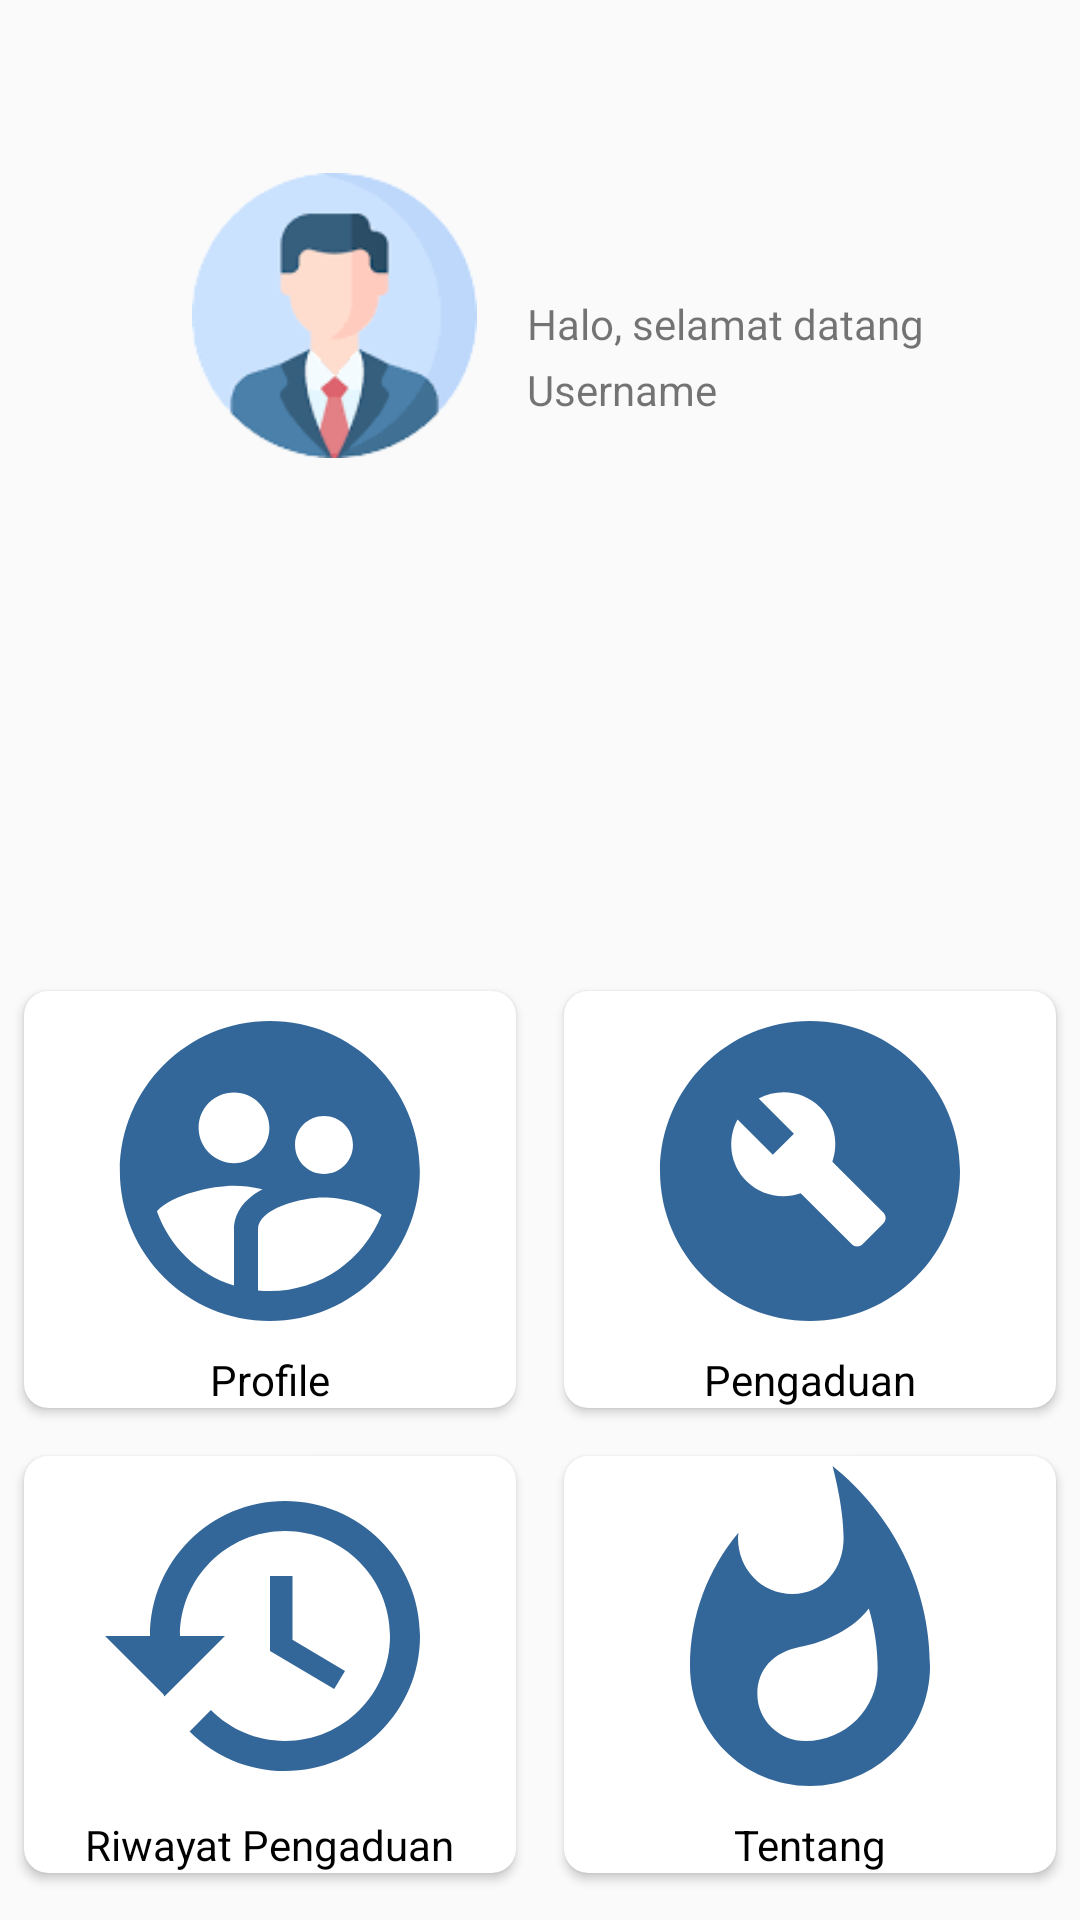

Where to tap for icons on this 1080 x 1920 app screen, as [x,y]:
build circle: [810,1171]
supervised user circle: [269,1171]
whatshot: [810,1626]
